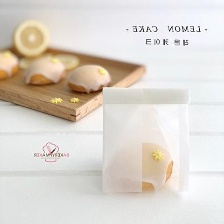snack: (92, 80, 199, 200)
